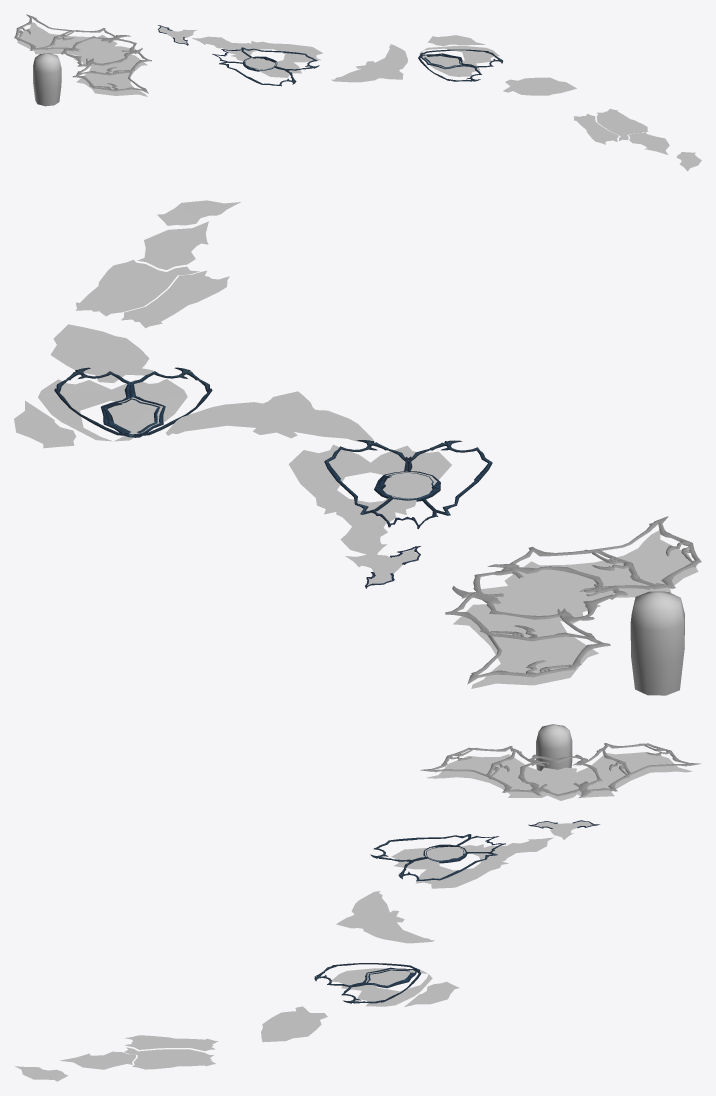
File: f_2302_floor01.FBX
3 views of the same model, one above another, from view 1: azimuth 30°, elevation 25°; view 2: azimuth 150°, elevation 25°; view 3: azimuth 270°, elevation 25° (orthographic). The views are drawn at different scales.
Visible parts, largest first — view 1: f_2302_floor01, f_2302_floor04, d_2302_Dbigtree_01, d_2302_pingtai_12c, f_2302_floor02, d_2302_pingtai_13c, d_2302_pingtai_05c, d_2302_pingtai_06c; view 2: f_2302_floor01, f_2302_floor04, d_2302_Dbigtree_01, d_2302_pingtai_12c, f_2302_floor02, d_2302_pingtai_13c, d_2302_pingtai_06c, d_2302_pingtai_05c, d_2302_pingtai_01c, d_2302_pingtai_02c; view 3: f_2302_floor01, f_2302_floor04, d_2302_pingtai_12c, f_2302_floor02, d_2302_Dbigtree_01, d_2302_pingtai_13c.
Boxes of the visible parts, box(x1,y1,x2,y2) form: f_2302_floor01: box(17, 22, 701, 171); f_2302_floor04: box(191, 36, 322, 77); d_2302_Dbigtree_01: box(33, 53, 61, 106); d_2302_pingtai_12c: box(14, 14, 151, 93); f_2302_floor02: box(419, 46, 499, 76); d_2302_pingtai_13c: box(61, 35, 142, 66); d_2302_pingtai_05c: box(241, 47, 319, 70); d_2302_pingtai_06c: box(219, 61, 296, 86); f_2302_floor01: box(14, 200, 698, 688); f_2302_floor04: box(288, 444, 451, 554); d_2302_Dbigtree_01: box(630, 591, 684, 695); d_2302_pingtai_12c: box(445, 516, 701, 684); f_2302_floor02: box(38, 379, 187, 441); d_2302_pingtai_13c: box(452, 563, 627, 621); d_2302_pingtai_06c: box(408, 440, 492, 515); d_2302_pingtai_05c: box(324, 440, 408, 514); d_2302_pingtai_01c: box(54, 367, 133, 437); d_2302_pingtai_02c: box(129, 367, 212, 436); f_2302_floor01: box(15, 752, 691, 1081); f_2302_floor04: box(391, 837, 553, 888); d_2302_pingtai_12c: box(420, 743, 701, 792); f_2302_floor02: box(331, 968, 432, 1006); d_2302_Dbigtree_01: box(536, 724, 572, 770); d_2302_pingtai_13c: box(518, 754, 602, 798).
Size of the model in its own units: 16345 by 2151 by 16734.
